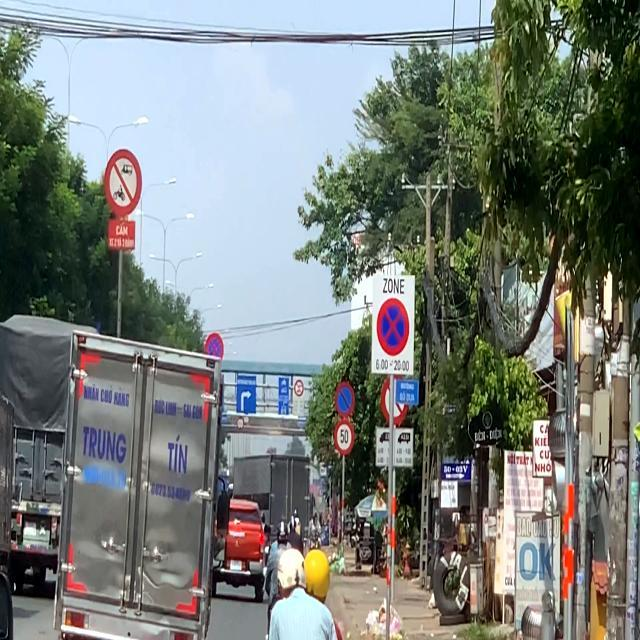P-117: (237, 416, 244, 429)
P-127: (334, 418, 354, 456)
P-130: (377, 298, 410, 357), (205, 334, 224, 366)
P-131a: (335, 382, 355, 418)
